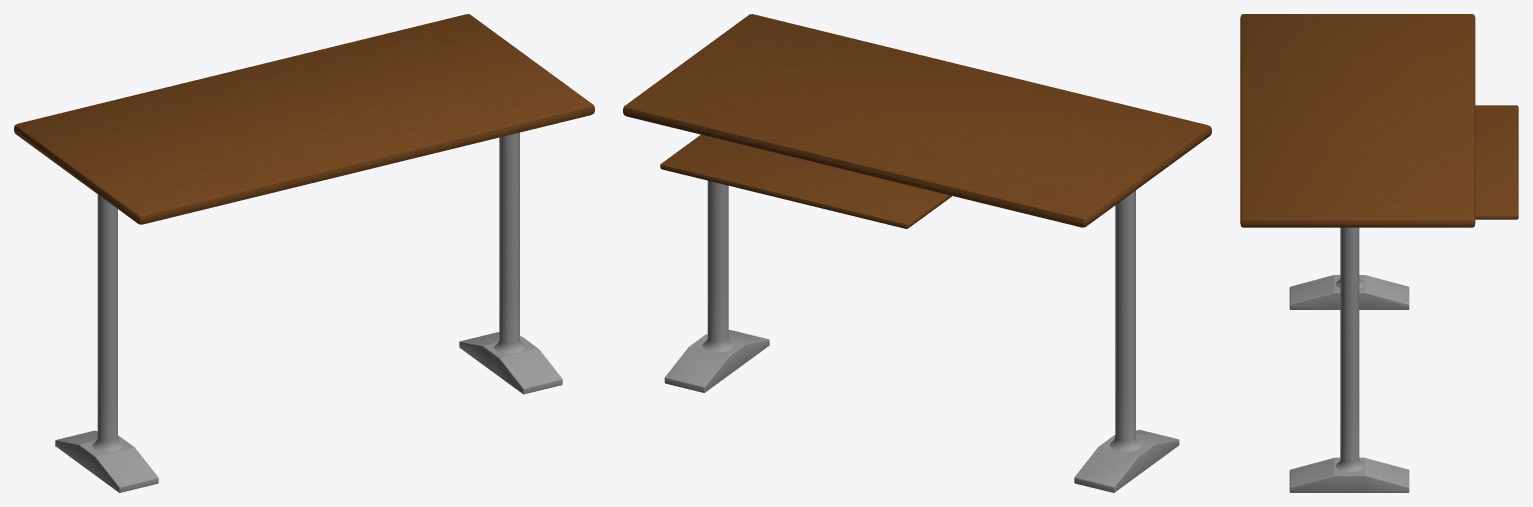
Rendered from desk.glb.
The picture shows the model from 3 angles, left to right: view 1: azimuth 30°, elevation 25°; view 2: azimuth 150°, elevation 25°; view 3: azimuth 270°, elevation 25°; orthographic projection. The views are drawn at different scales.
Parts seen in each view (by area): view 1: desk-top, desk-legs, Cube.002; view 2: desk-top, desk-top.002, desk-legs, Cube.002; view 3: desk-top, Cube.002, desk-top.002, desk-legs.
Boxes of the visible parts, left/top/right/bottom form: desk-top: left=14, top=14, right=594, bottom=224; desk-legs: left=92, top=132, right=525, bottom=451; Cube.002: left=55, top=332, right=562, bottom=492; desk-top: left=623, top=14, right=1211, bottom=227; desk-top.002: left=660, top=134, right=951, bottom=228; desk-legs: left=702, top=180, right=1141, bottom=451; Cube.002: left=664, top=330, right=1179, bottom=492; desk-top: left=1240, top=14, right=1475, bottom=227; Cube.002: left=1289, top=275, right=1409, bottom=492; desk-top.002: left=1475, top=105, right=1518, bottom=219; desk-legs: left=1335, top=227, right=1363, bottom=472.
Bounding box in the file's own units: 1.57 × 0.9761 × 0.8891.
3 materials, 2 textured.
